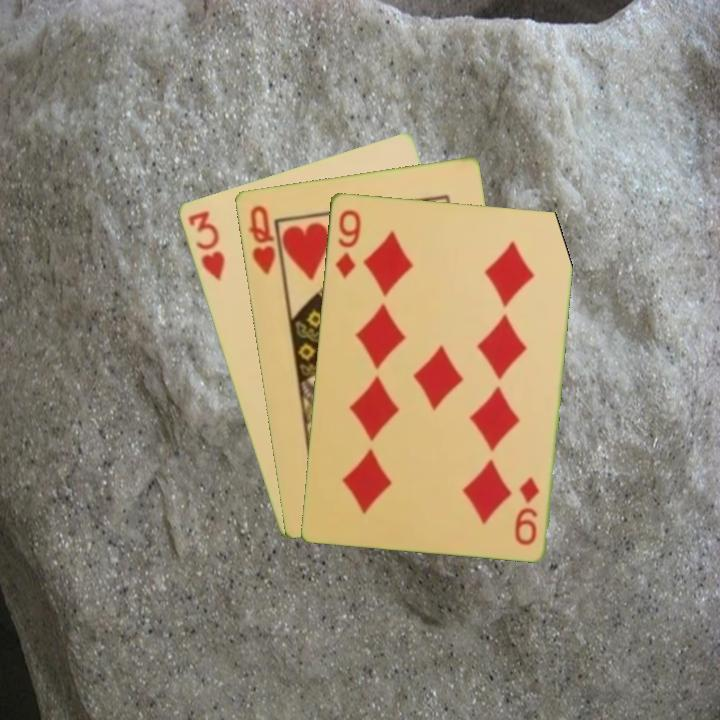3h: (183, 207, 227, 284)
9d: (331, 206, 363, 281), (510, 473, 542, 548)
Qh: (244, 201, 278, 277)
